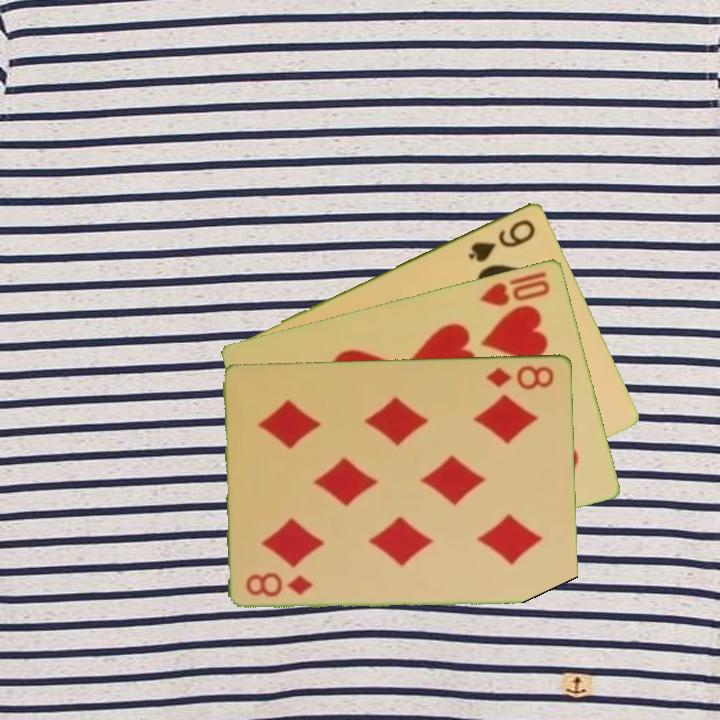10h: (476, 267, 553, 309)
8d: (483, 362, 557, 392), (243, 571, 316, 599)
9s: (465, 215, 539, 265)
